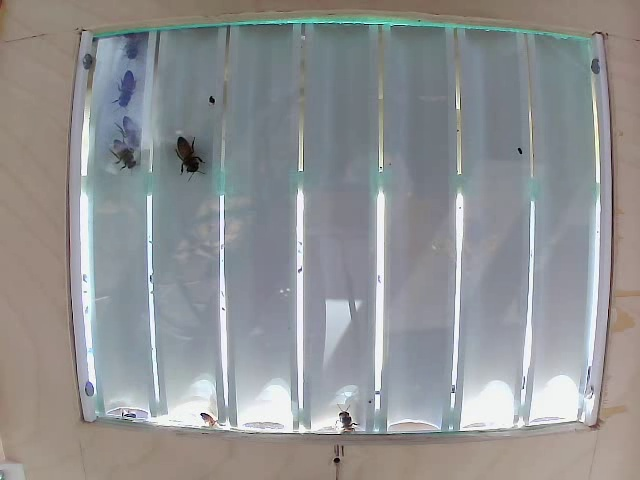bee: (164, 129, 216, 191), (110, 110, 143, 154), (100, 75, 137, 103), (105, 144, 132, 181)
